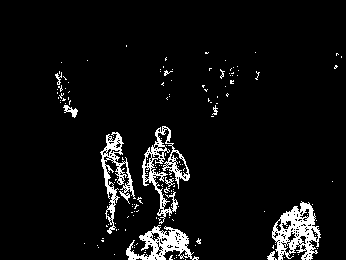person: (141, 124, 190, 227), (99, 130, 141, 232), (269, 202, 320, 260)
